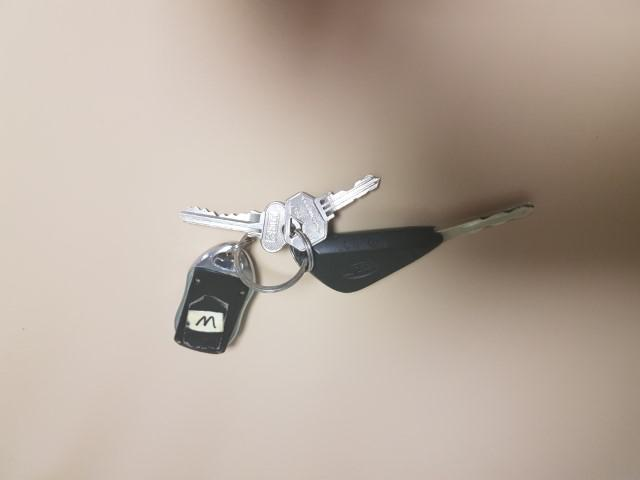key: (292, 198, 538, 294)
